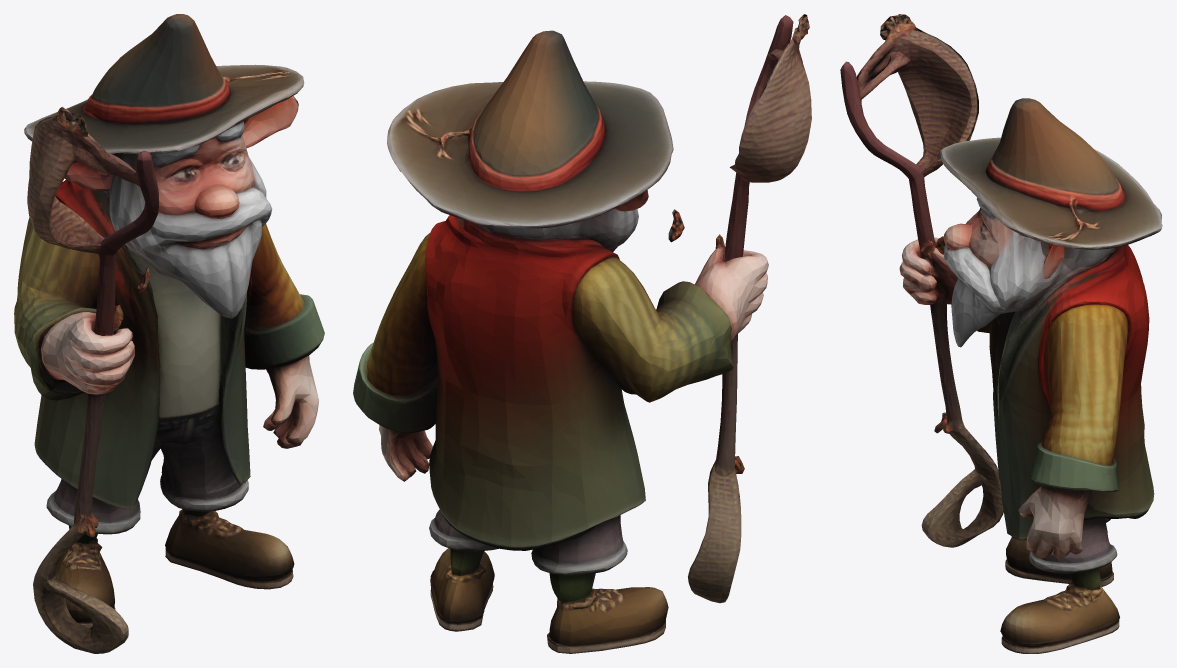
File: pig_1.glb
The picture shows the model from 3 angles, left to right: view 1: azimuth 30°, elevation 25°; view 2: azimuth 150°, elevation 25°; view 3: azimuth 270°, elevation 25°; orthographic projection. The views are drawn at different scales.
Visible parts, largest first — view 1: world; view 2: world; view 3: world.
Part boxes in pixels (box(x1,y1,x2,y2)): world: box(14, 14, 324, 653); world: box(353, 14, 811, 653); world: box(840, 14, 1162, 653).
Size of the model in its own units: 0.6543 by 0.9976 by 0.5677.
Materials: 1 (1 with a texture image).
